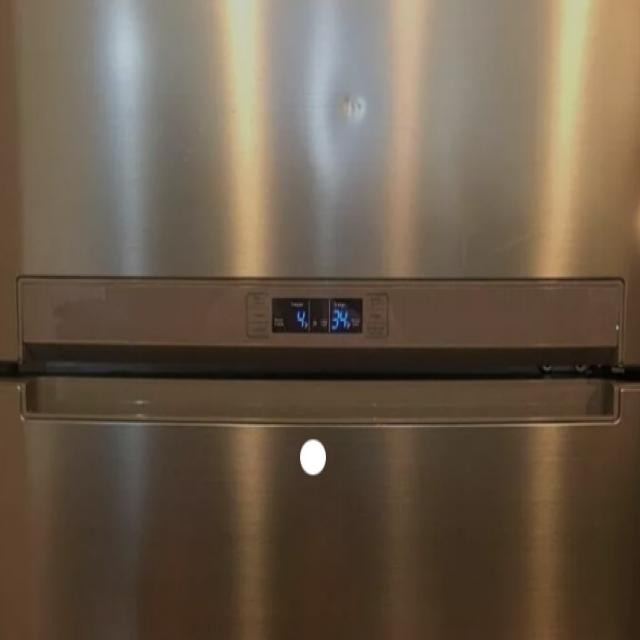dents: (329, 80, 386, 154)
